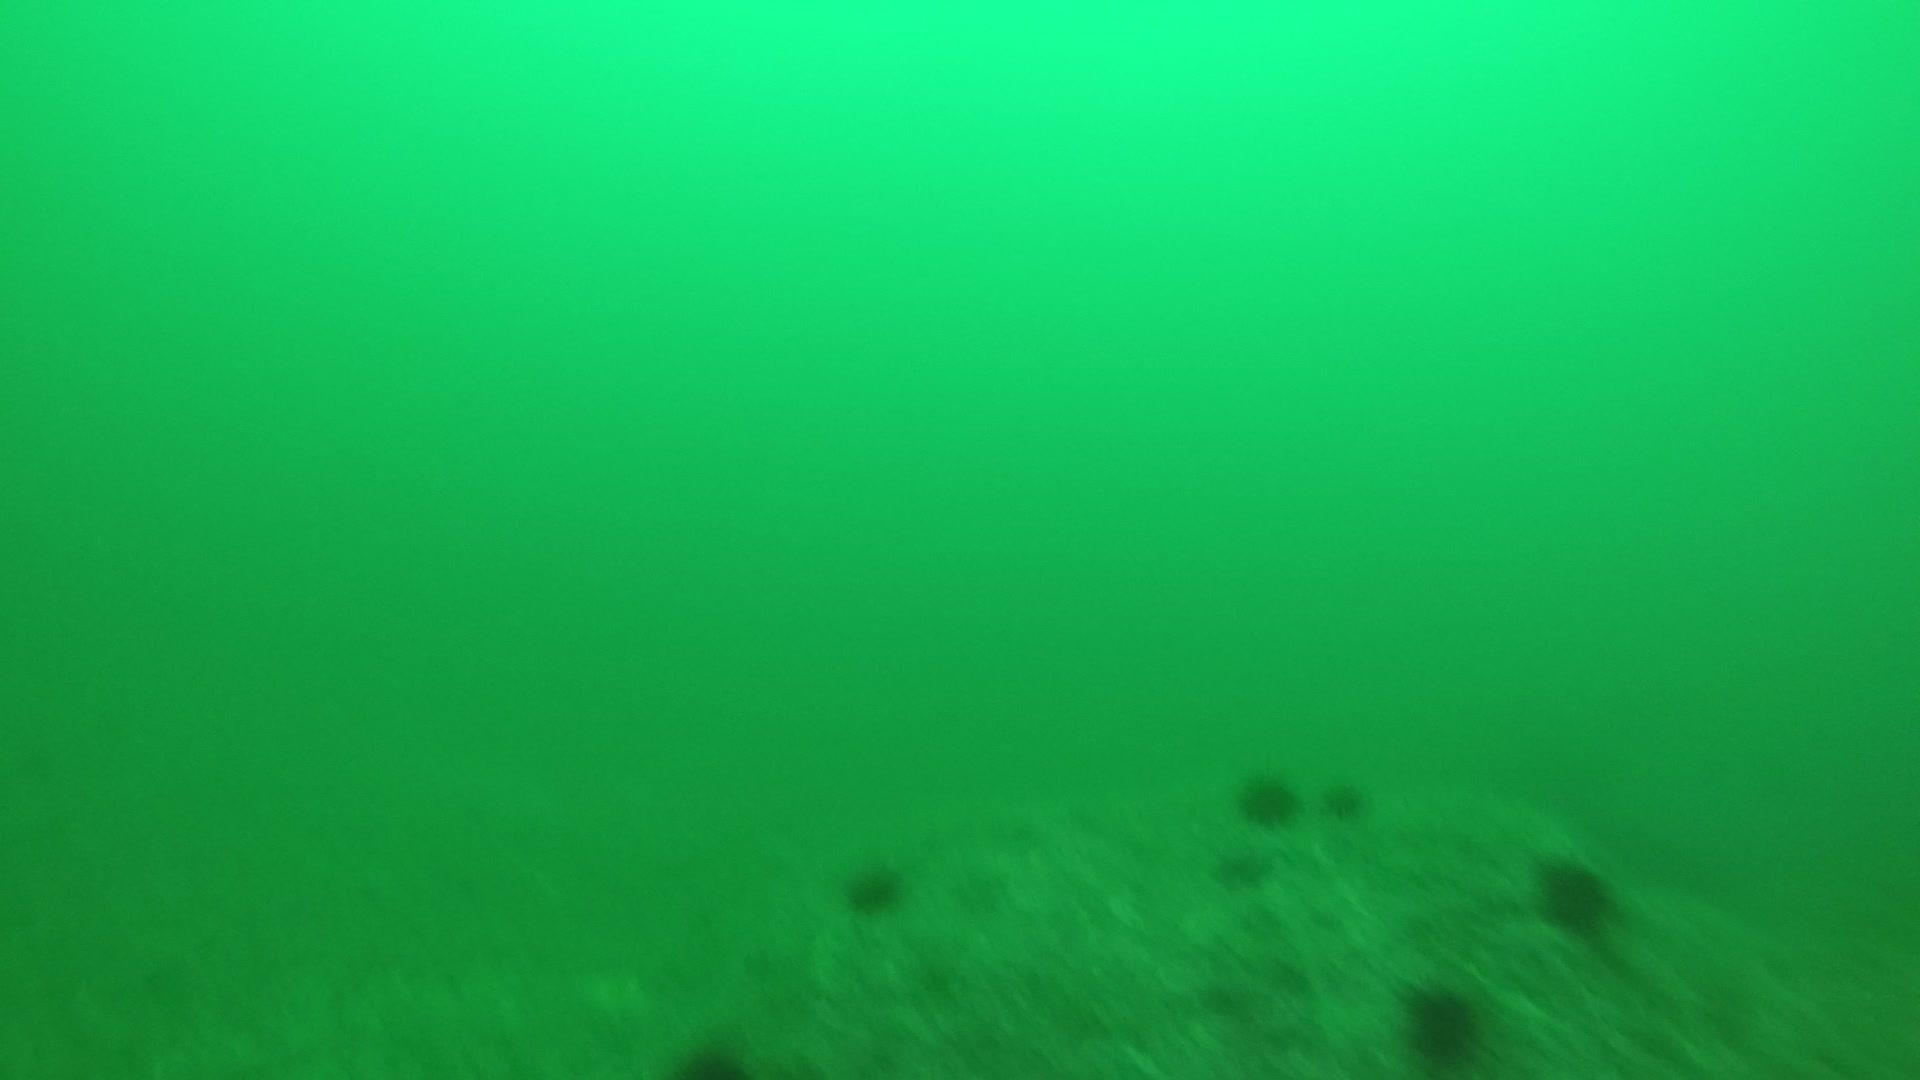echinus: (1396, 978, 1489, 1065), (1531, 851, 1621, 936), (1233, 765, 1302, 829), (840, 855, 909, 916), (675, 1031, 752, 1079), (1213, 845, 1271, 893), (1323, 774, 1371, 823)
